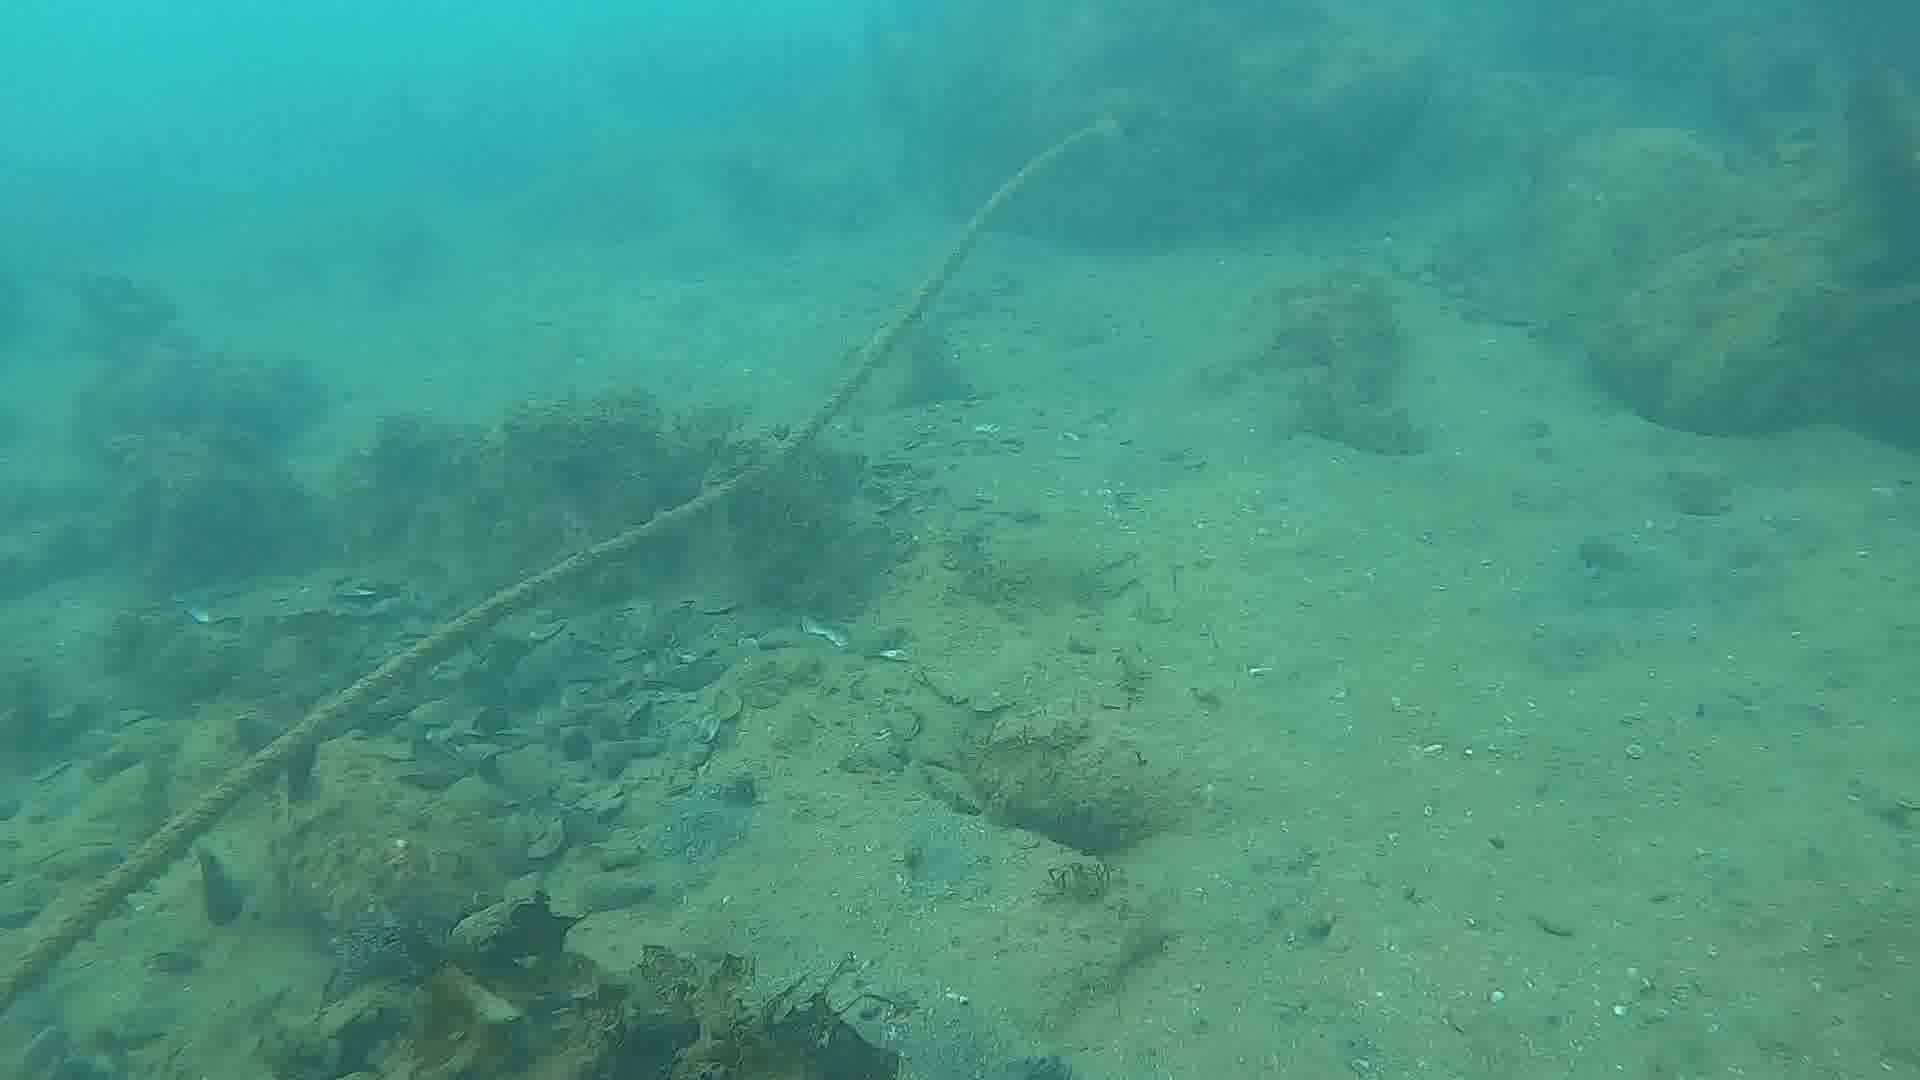rope: (0, 125, 1098, 1017)
